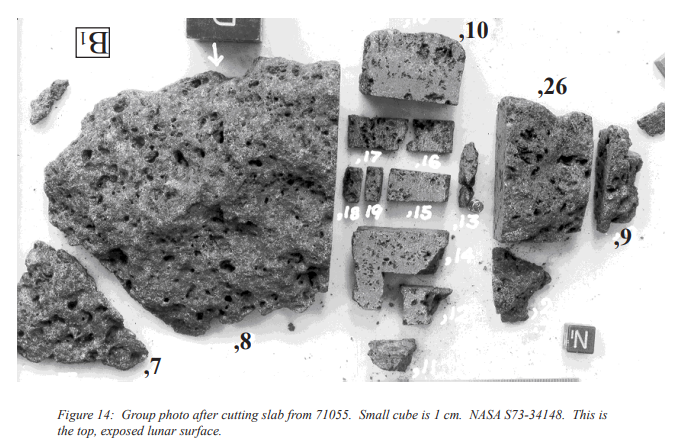Basalt: (48, 90, 353, 319), (339, 36, 474, 385), (123, 116, 327, 290), (474, 93, 606, 255), (17, 246, 123, 374), (26, 288, 119, 368)
